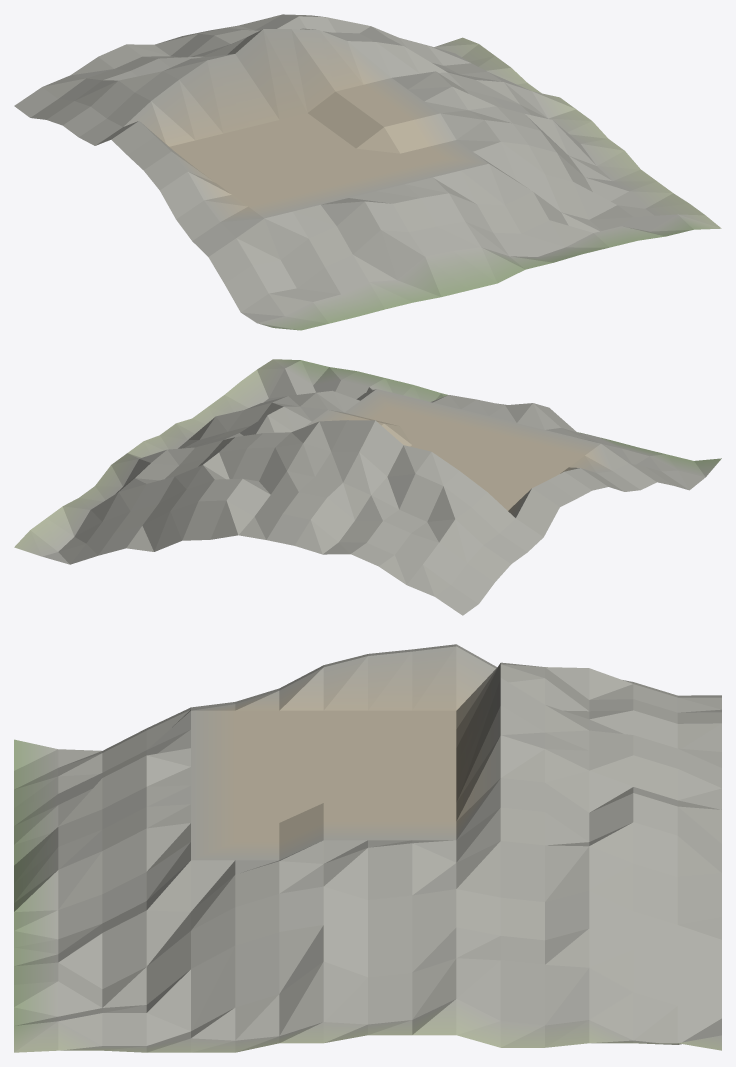
The picture shows the model from 3 angles, top to bottom: view 1: azimuth 30°, elevation 25°; view 2: azimuth 150°, elevation 25°; view 3: azimuth 270°, elevation 25°; orthographic projection. The views are drawn at different scales.
Size of the model in its own units: 32 by 10.18 by 32.
